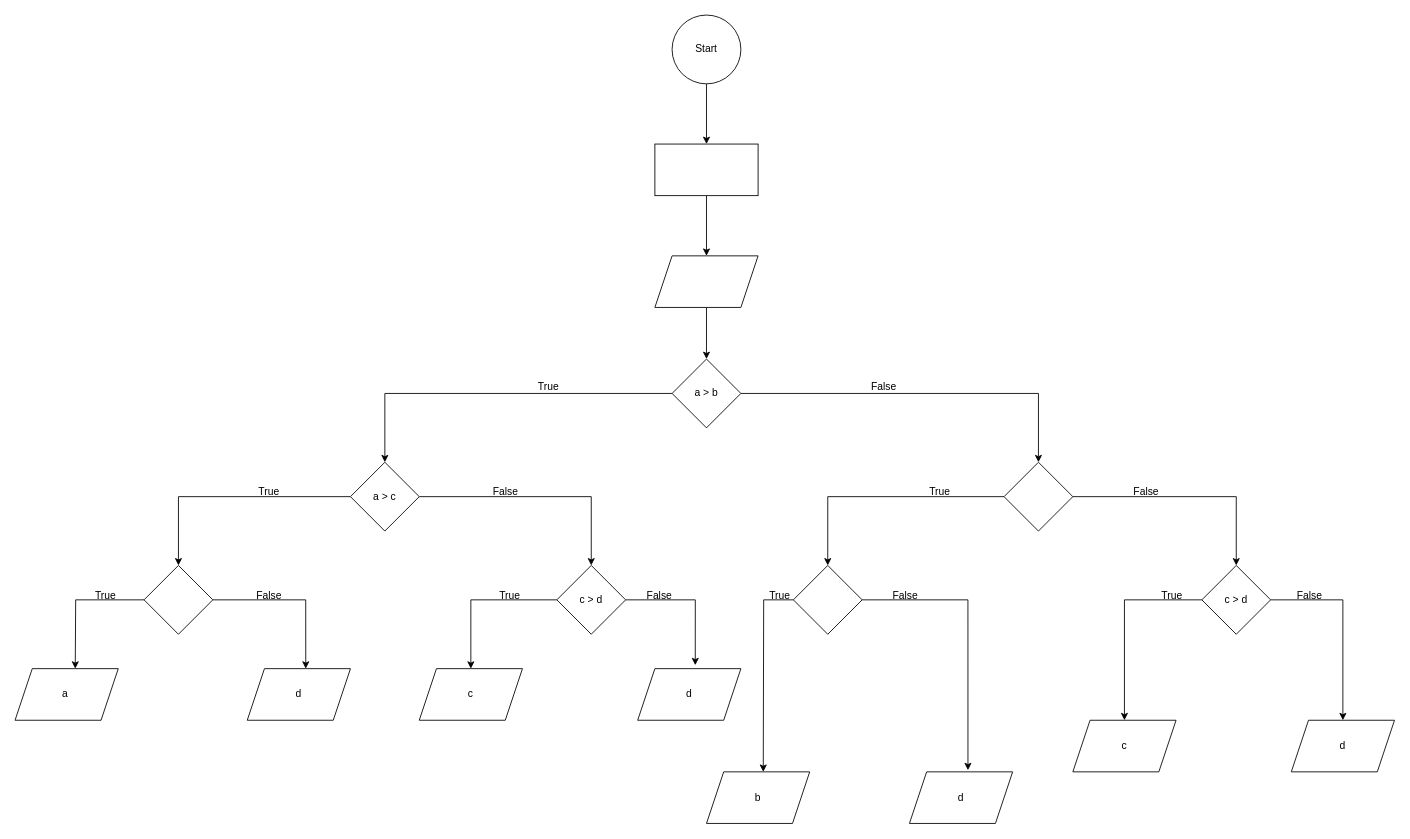
The diagram is 1410 pixels wide and 839 high, and some of its shapes have lost their labels. The box of each missing label's shape, as (x1, y1, x2, y2) in pixels:
a > d: (143, 565, 213, 634)
b > c: (1003, 461, 1073, 531)
b > d: (792, 565, 862, 634)
Declare a, b, c, d: (654, 143, 758, 196)
Read a, b, c, d: (654, 255, 758, 307)
